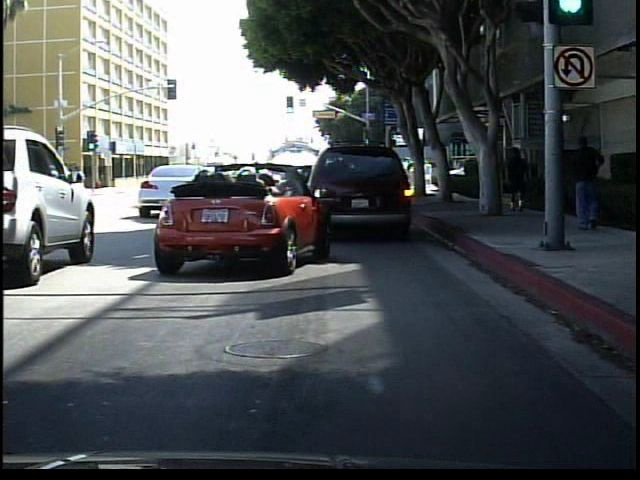person: (564, 130, 611, 237), (505, 141, 533, 214)
